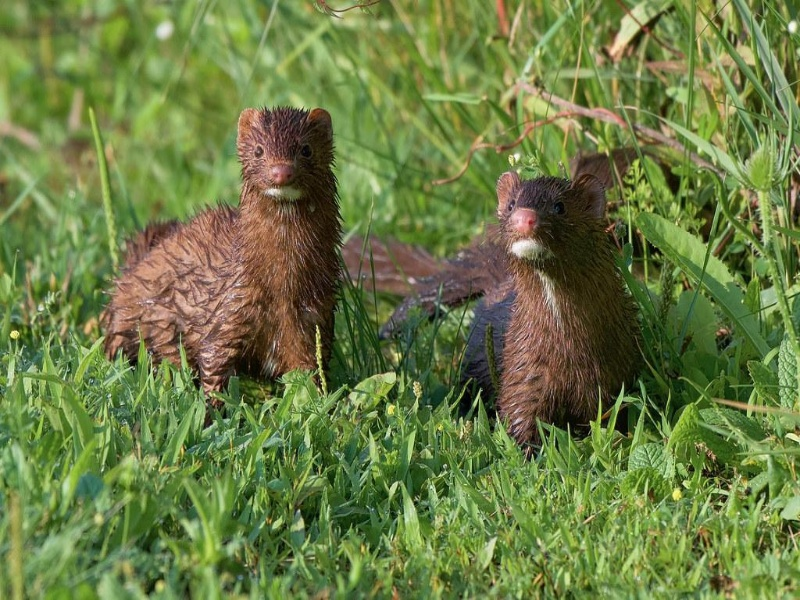minkish: (343, 170, 633, 453), (102, 105, 344, 408)
